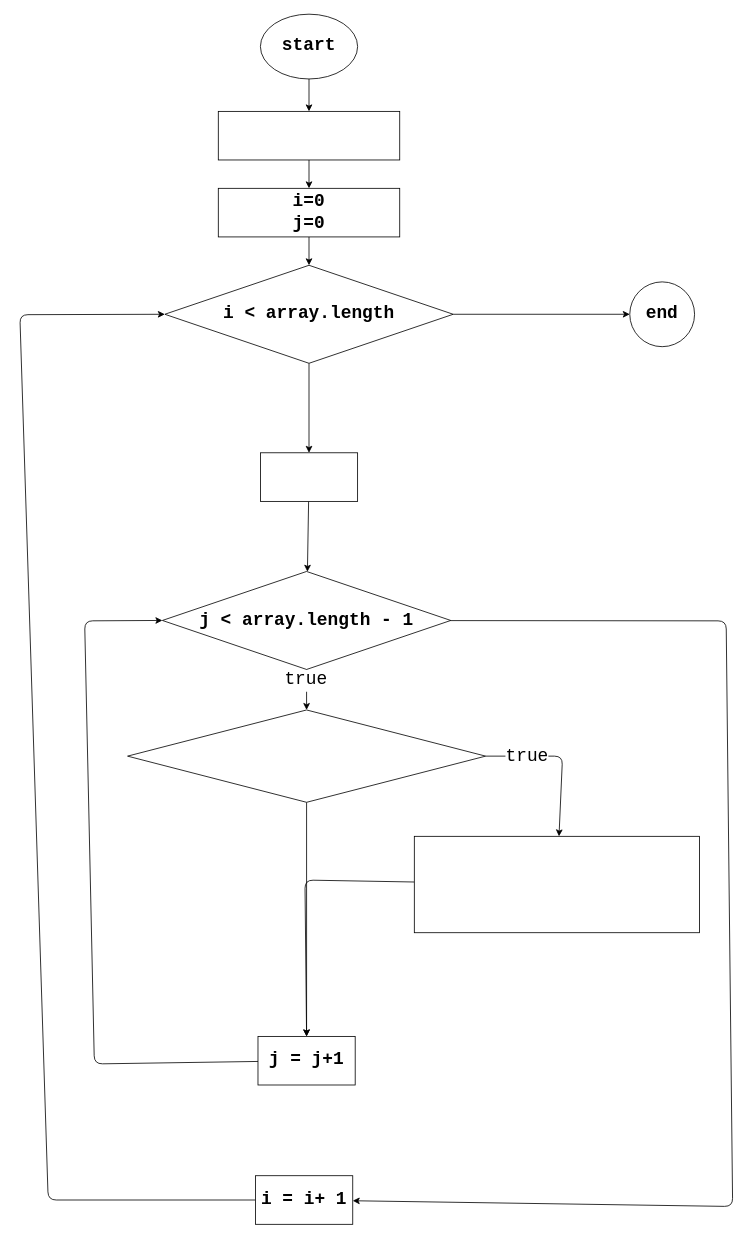
The diagram is 753 pixels wide and 1238 high, and some of its shapes have lost their labels. The centre of each missing label's shape, as x and y in pixels:
"array=[]" goes at point 308,135.
"array[j]>array[j+1]" goes at point 306,755.
"j=0" goes at point 309,476.
"temp = array[j] array[j]=array[j+1] array[j+1]=temp" goes at point 556,884.
